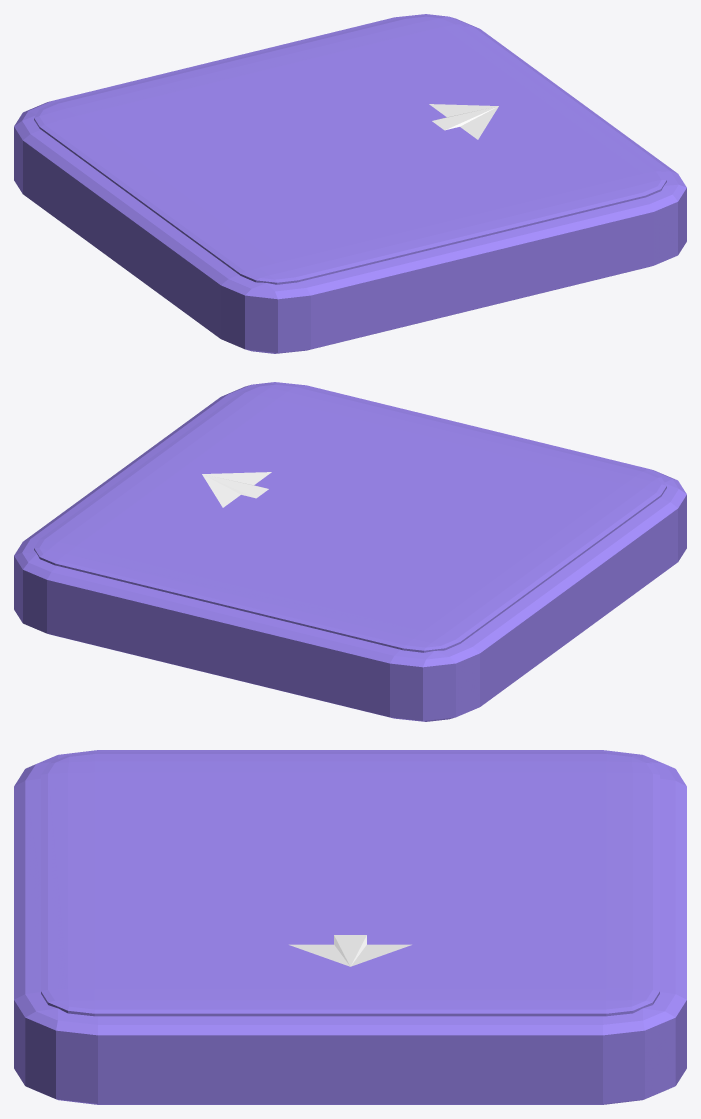
Rendered from turnright.fbx.
3 renders of one model, top to bottom at view 1: azimuth 30°, elevation 25°; view 2: azimuth 150°, elevation 25°; view 3: azimuth 270°, elevation 25°, orthographic. The views are drawn at different scales.
Parts seen in each view (by area): view 1: 立方体.001, 立方体, ArrowRight; view 2: 立方体.001, 立方体, ArrowRight; view 3: 立方体.001, 立方体, ArrowRight.
Boxes of the visible parts, x1,y1,x2,y2 form: 立方体.001: (34,15,666,284); 立方体: (14,14,686,353); ArrowRight: (429,104,498,139); 立方体.001: (34,383,666,652); 立方体: (14,382,686,721); ArrowRight: (202,472,271,507); 立方体.001: (41,752,659,1016); 立方体: (14,750,686,1104); ArrowRight: (289,935,411,966).
Size of the model in its own units: 200 by 32.4 by 200.
